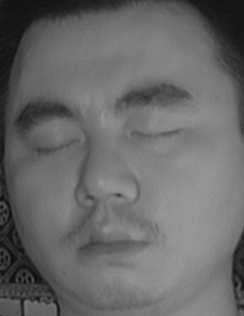blink: (131, 115, 184, 155), (32, 125, 82, 160)
mouth: (68, 212, 154, 268)
